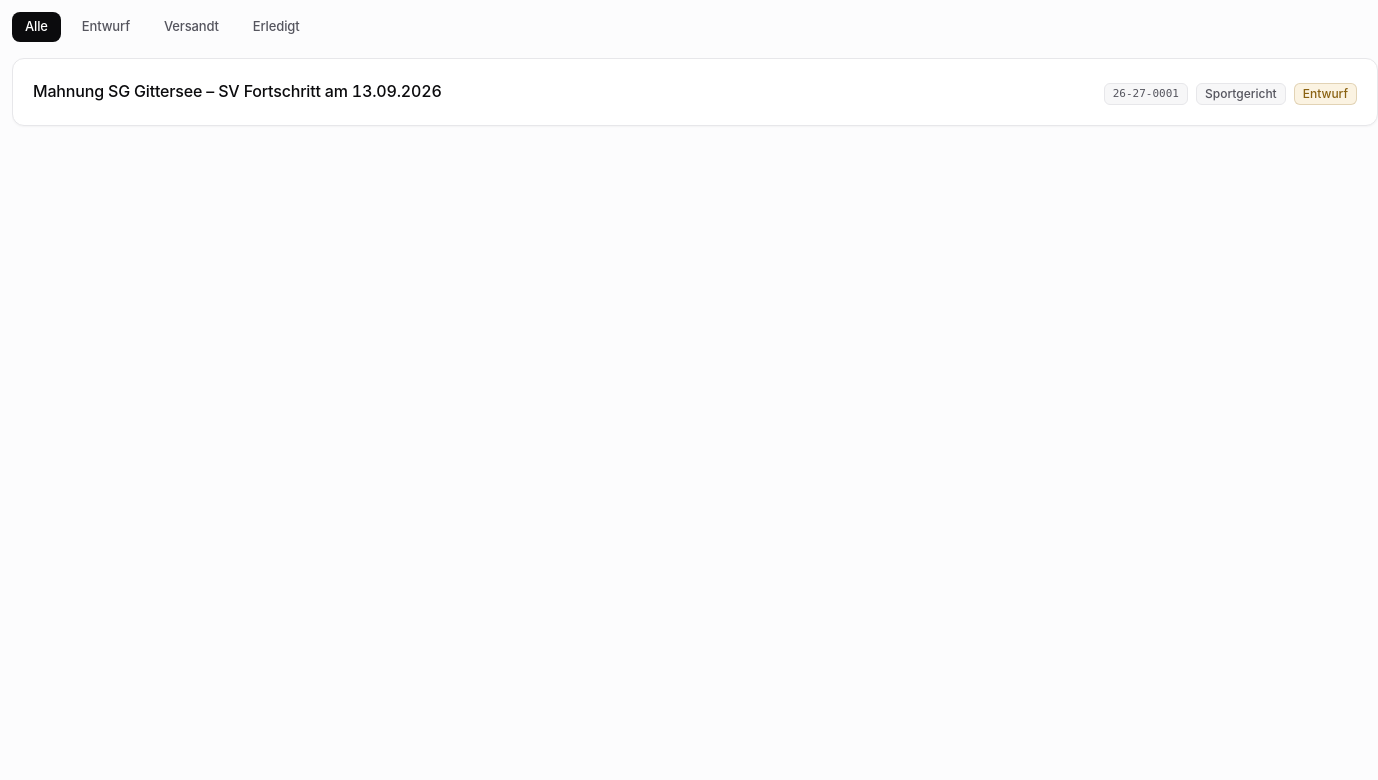
Ein Vorgang › Mahnung und Mail › bietet bei einem Sportgerichtsfall kein Formular an
Click the 5th button at (237, 91), box [33,79,1357,105]
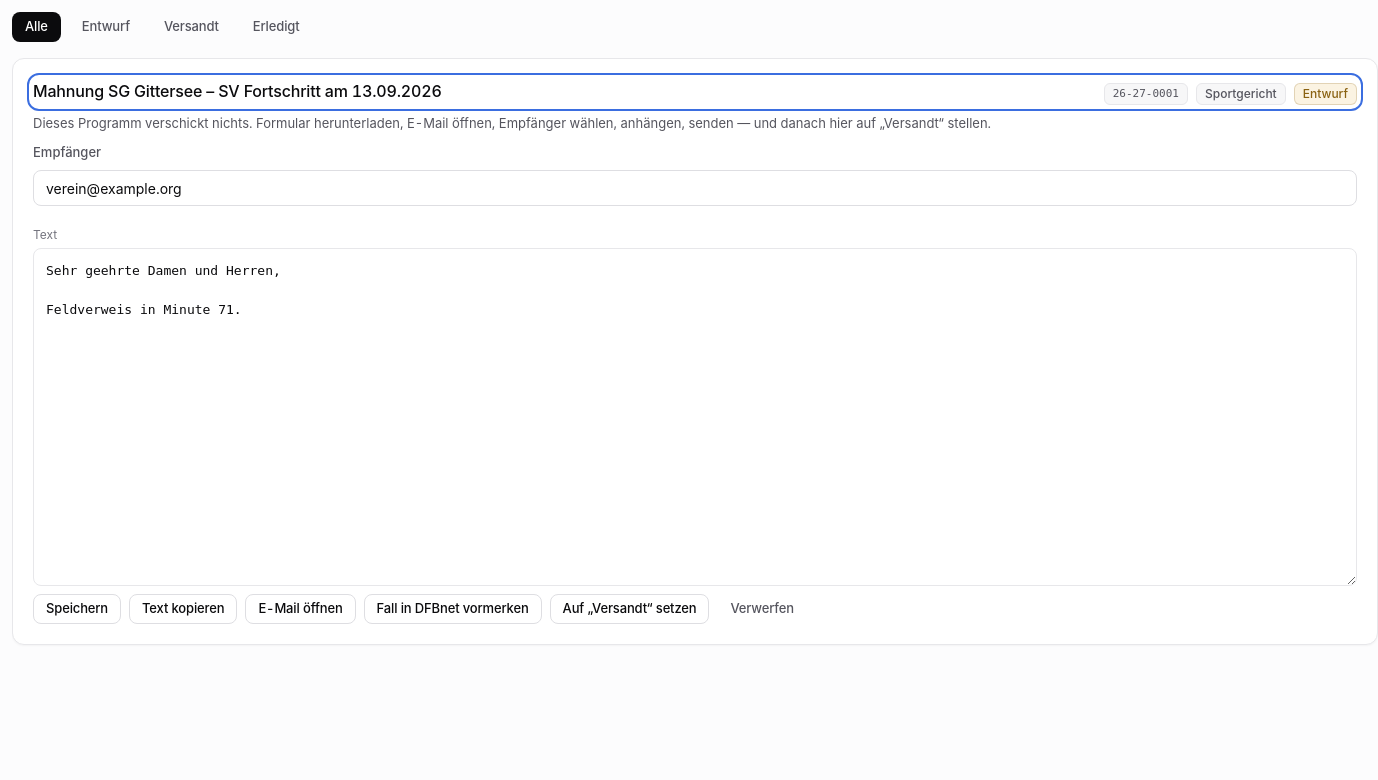
Expected: the button "Speichern" is shown, [33,594,121,624]
